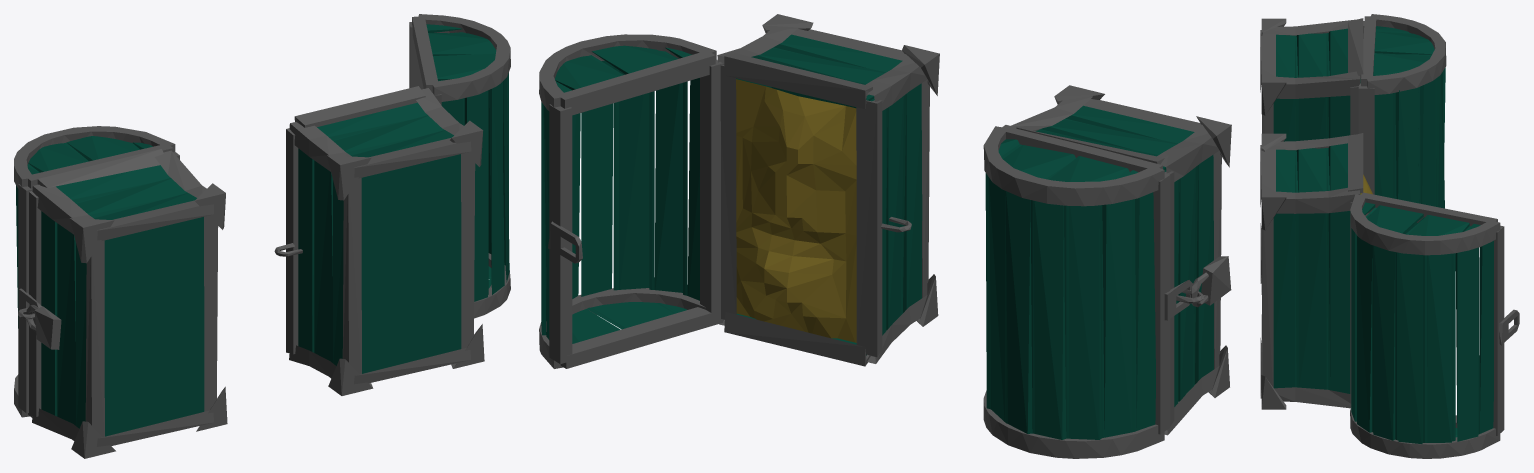
Rendered from chest01.FBX.
3 renders of one model, left to right at view 1: azimuth 30°, elevation 25°; view 2: azimuth 150°, elevation 25°; view 3: azimuth 270°, elevation 25°, orthographic. The views are drawn at different scales.
Visible parts, largest first — view 1: chest_one_open, chest_one_close; view 2: chest_one_open, chest_one_close; view 3: chest_one_open, chest_one_close.
Boxes of the visible parts, x1,y1,x2,y2 form: chest_one_open: (274,14,510,395); chest_one_close: (14,126,227,458); chest_one_open: (539,14,939,368); chest_one_close: (983,85,1231,458); chest_one_open: (1260,133,1519,458); chest_one_close: (1260,14,1446,294).
Bounding box in the file's own units: 123 × 54.29 × 57.32.
